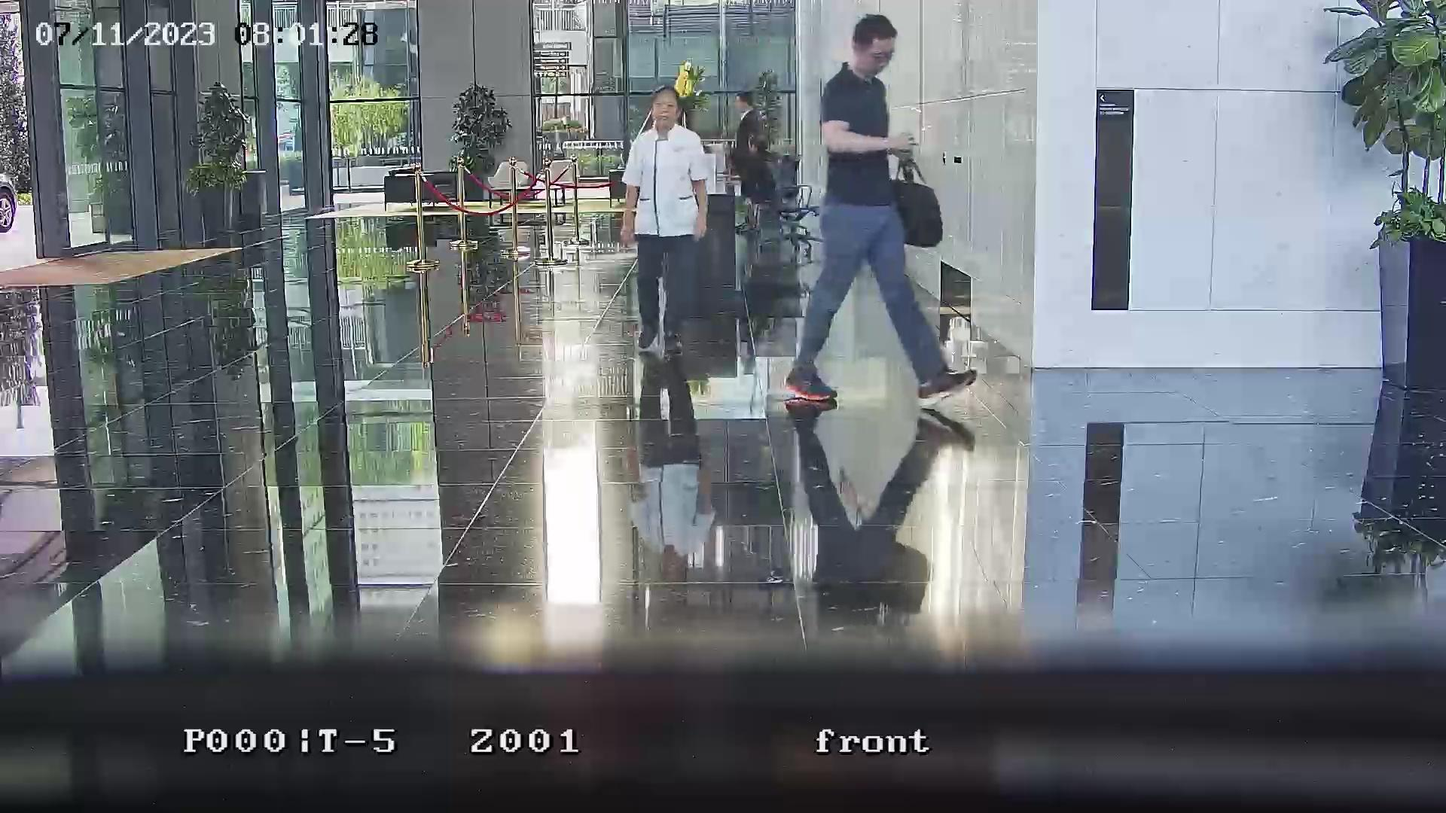person: (782, 14, 975, 406), (620, 87, 712, 359), (730, 90, 776, 209)
